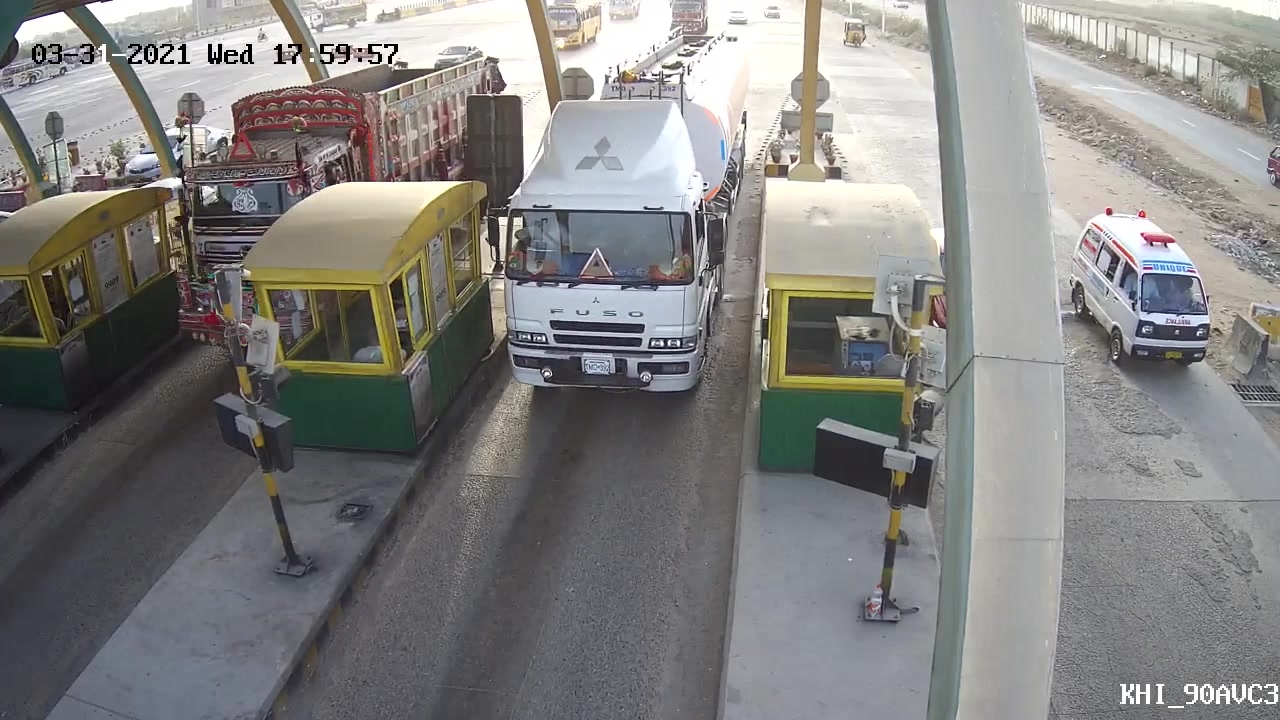F6: (482, 32, 754, 408)
